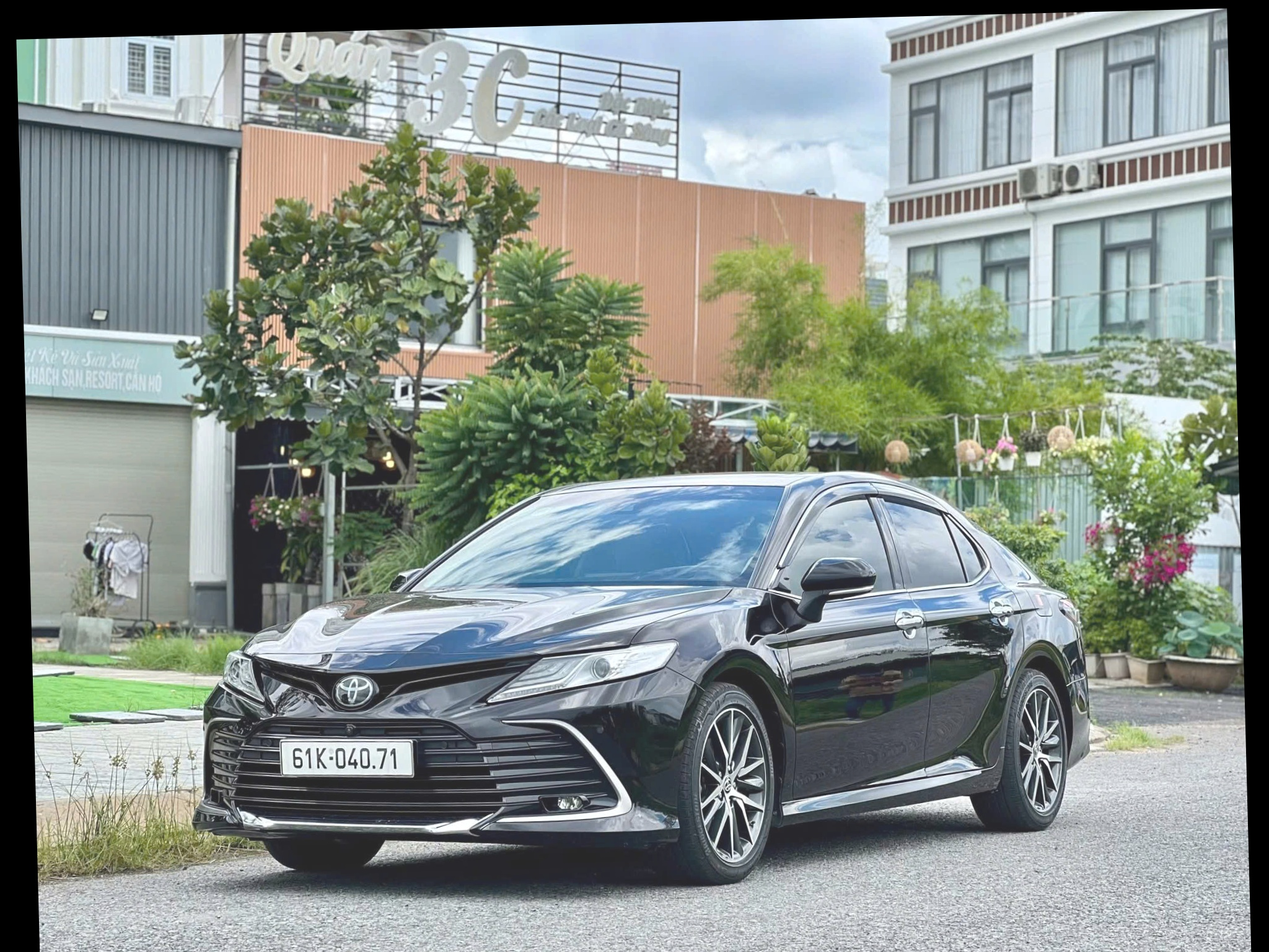Bien-so: (279, 698, 419, 755)
